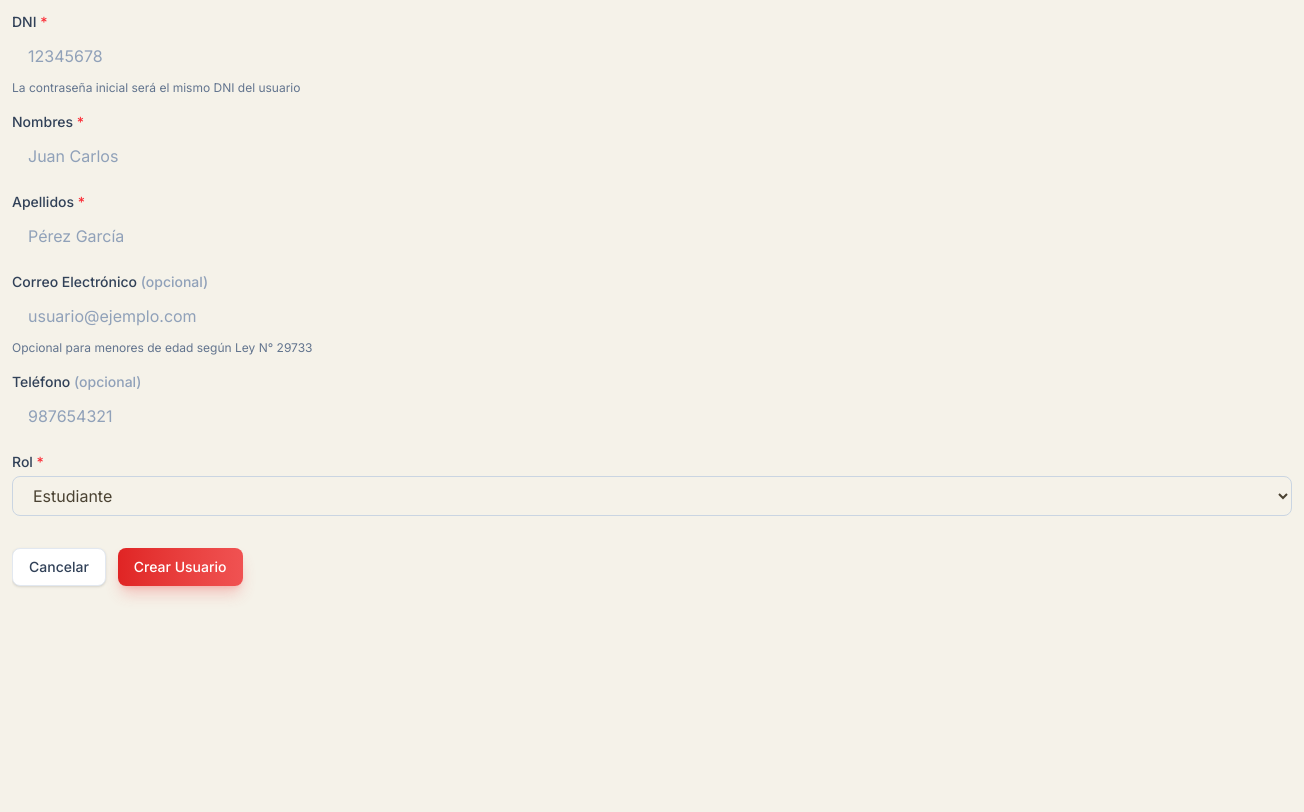
Test case: UserForm Component › should validate required fields
Click the button "Crear Usuario" at (180, 567), box top-left (118, 548), bottom-right (242, 586)
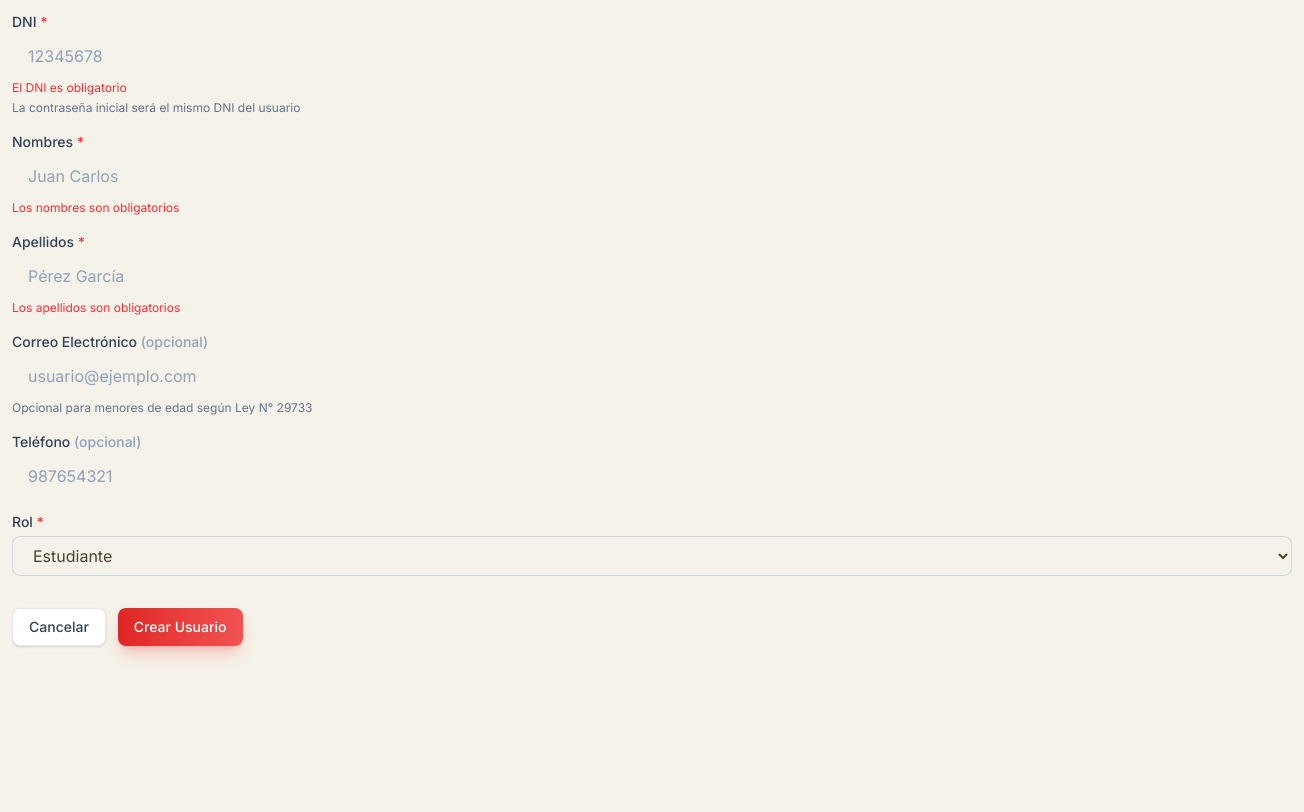
Result: the text "El DNI es obligatorio" is shown at top-left (12, 80), bottom-right (127, 95)
Result: the text "Los nombres son obligatorios" is shown at top-left (12, 200), bottom-right (179, 215)
Result: the text "Los apellidos son obligatorios" is shown at top-left (12, 300), bottom-right (180, 315)
